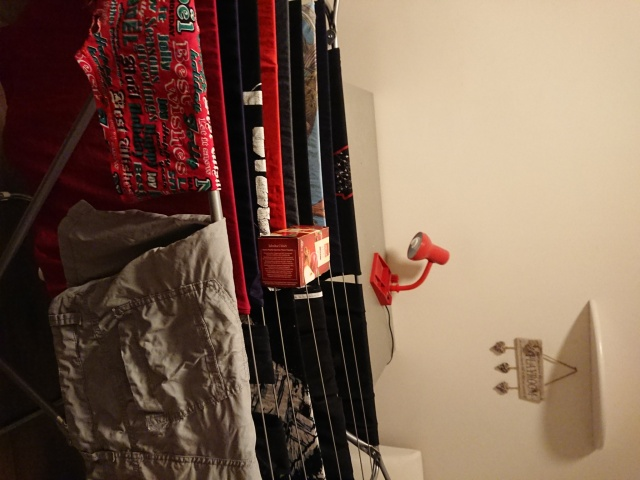Franck Apple Cinnamon Tea 60g: (254, 222, 334, 291)
